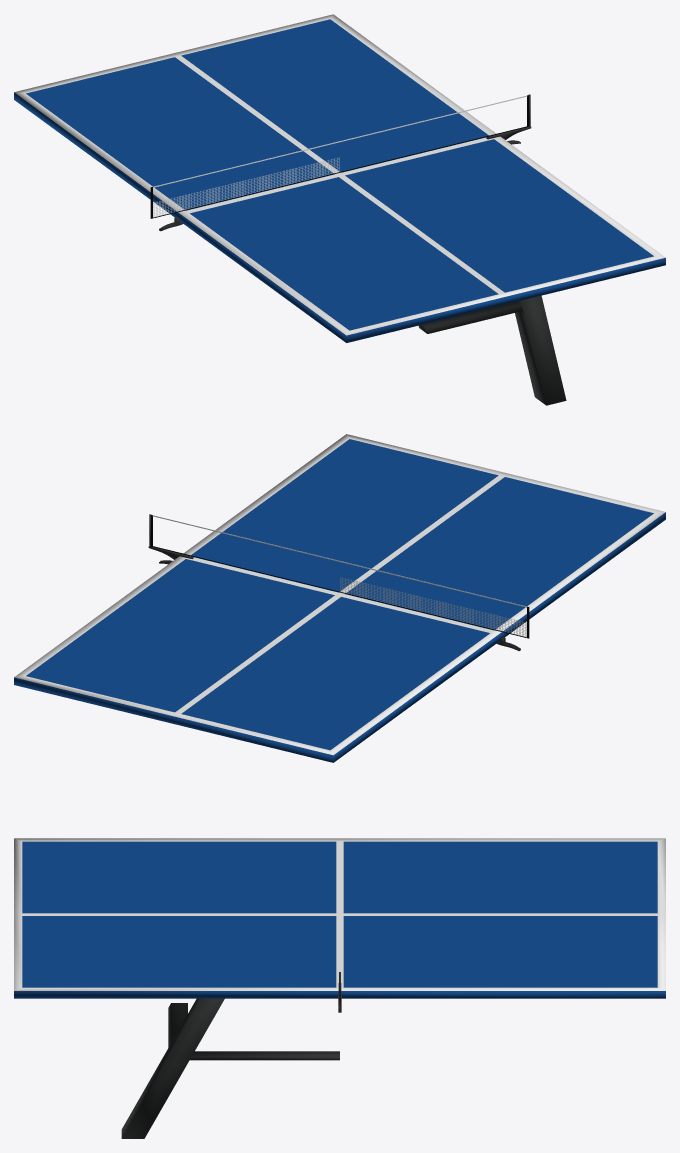
File: tableTennisTable.glb
3 views of the same model, one above another, from view 1: azimuth 30°, elevation 25°; view 2: azimuth 150°, elevation 25°; view 3: azimuth 270°, elevation 25° (orthographic).
Visible parts, largest first — view 1: Table, Legs, Net, NetBorder; view 2: Table, Net, NetBorder; view 3: Table, Legs.
Part boxes in pixels (box(x1,y1,x2,y2)): Table: box(14, 14, 665, 342); Legs: box(418, 295, 566, 405); Net: box(153, 157, 339, 217); NetBorder: box(150, 95, 528, 218); Table: box(14, 434, 665, 762); Net: box(340, 577, 526, 636); NetBorder: box(151, 515, 529, 638); Table: box(14, 838, 665, 998); Legs: box(121, 998, 339, 1138).
Size of the model in its own units: 3.62 by 1.88 by 5.48.
